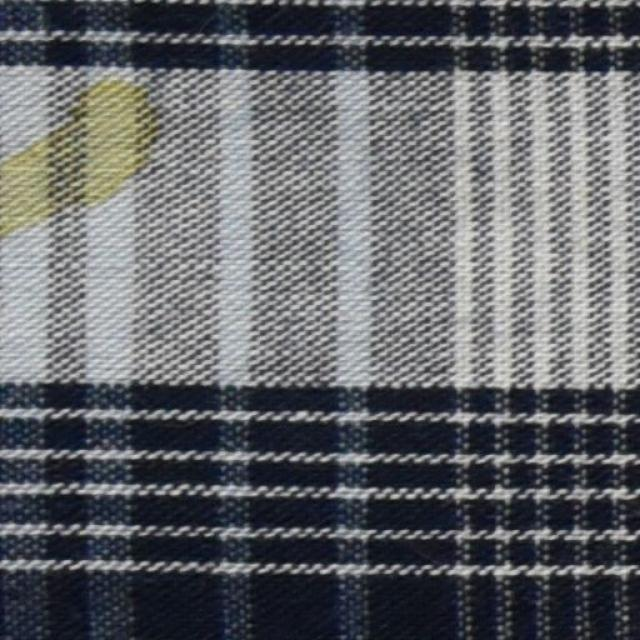Stain: (0, 64, 165, 244)
